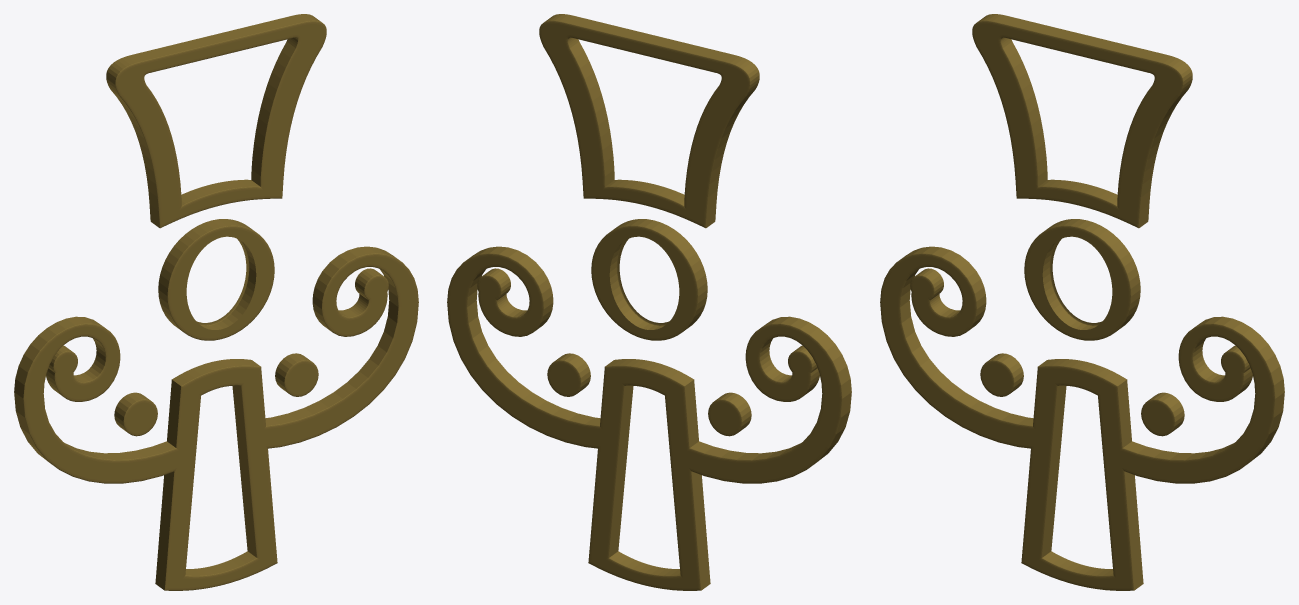
File: statue.glb
The picture shows the model from 3 angles, left to right: view 1: azimuth 30°, elevation 25°; view 2: azimuth 150°, elevation 25°; view 3: azimuth 330°, elevation 25°; orthographic projection.
Size of the model in its own units: 3.69 by 4.85 by 0.1597.
